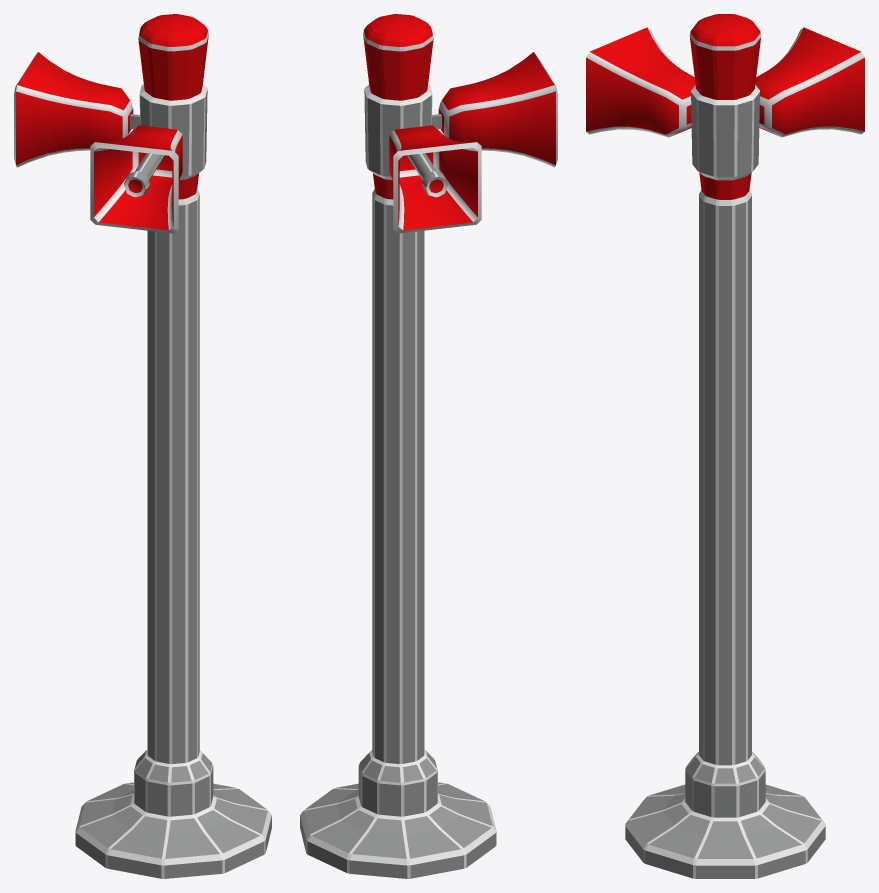
Rendered from speaker2.fbx.
3 renders of one model, left to right at view 1: azimuth 30°, elevation 25°; view 2: azimuth 150°, elevation 25°; view 3: azimuth 270°, elevation 25°, orthographic.
Visible parts, largest first — view 1: Pole.001, Speaker.002; view 2: Pole.001, Speaker.002; view 3: Pole.001, Speaker.002.
Part boxes in pixels (x1,y1,x2,y2): Pole.001: (75,14,271,878); Speaker.002: (14,52,182,233); Pole.001: (300,14,496,878); Speaker.002: (389,52,557,233); Pole.001: (625,14,825,878); Speaker.002: (586,27,864,137).
Size of the model in its own units: 127 by 486 by 150.
